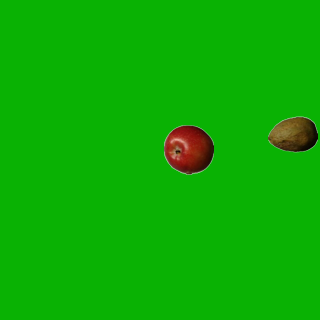Apple Braeburn: (163, 124, 213, 174)
Papaya: (267, 109, 317, 159)
